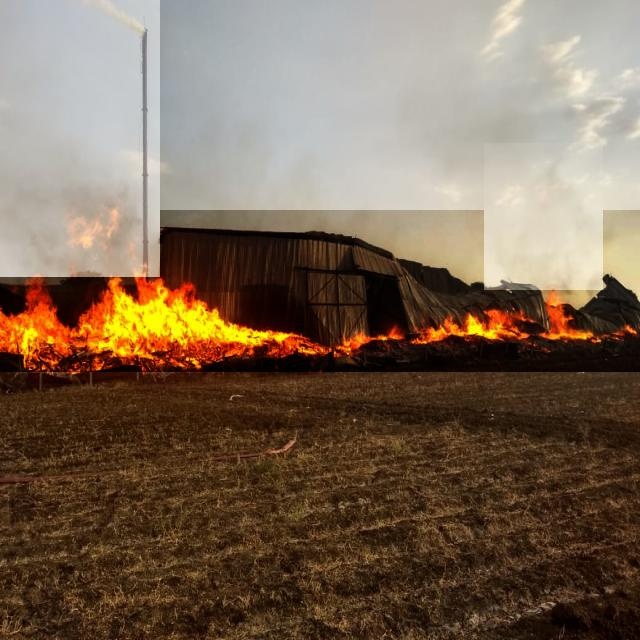Fire: (0, 210, 640, 372)
Smoke: (0, 0, 160, 277), (484, 143, 603, 290)
